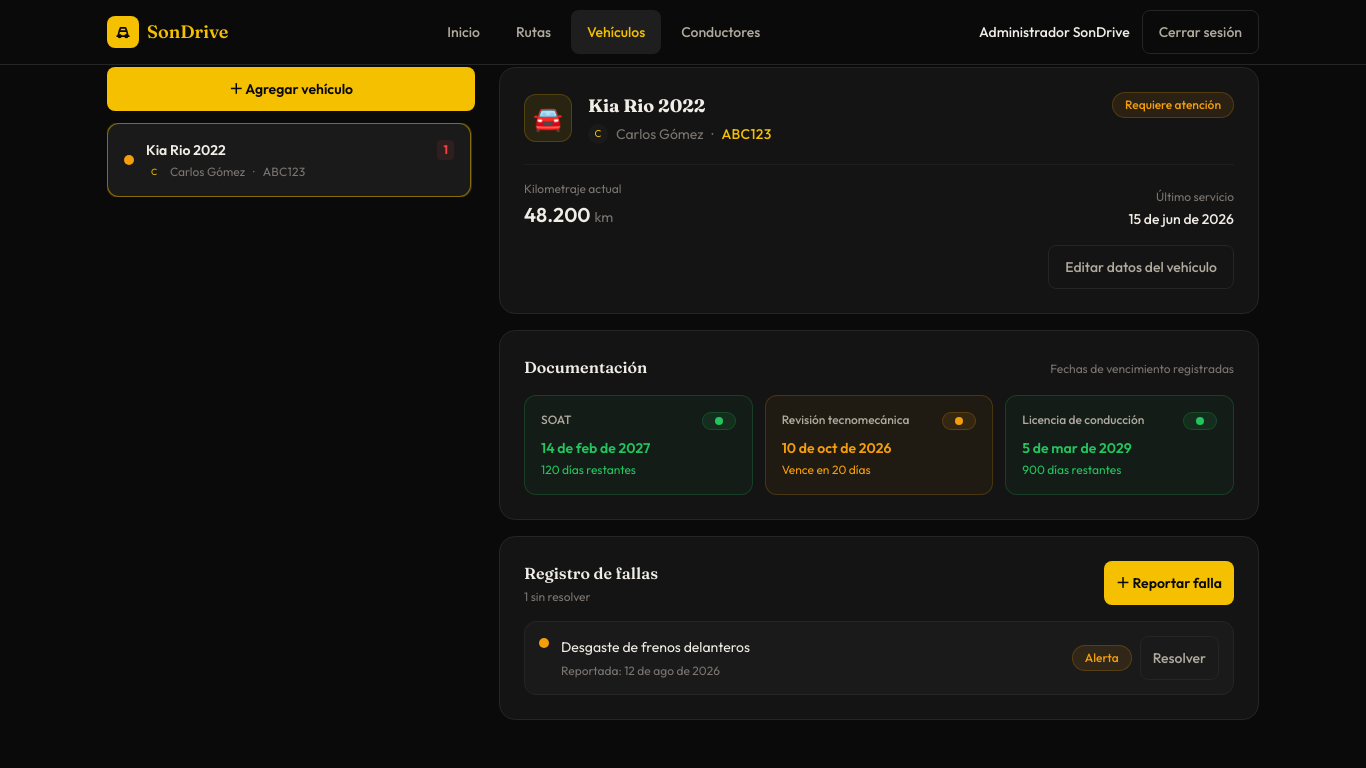
Test: PaginaVehiculos › muestra el monitoreo real de documentos y permite resolver una falla
(page scrolled)
Expected: the text "Kia Rio 2022" is shown, [146,140,226,160]
Expected: the text "Revisión tecnomecánica" is shown, [782,412,909,428]
Click the button "Resolver" at (1179,658), box [1140,636,1219,680]
(page scrolled)
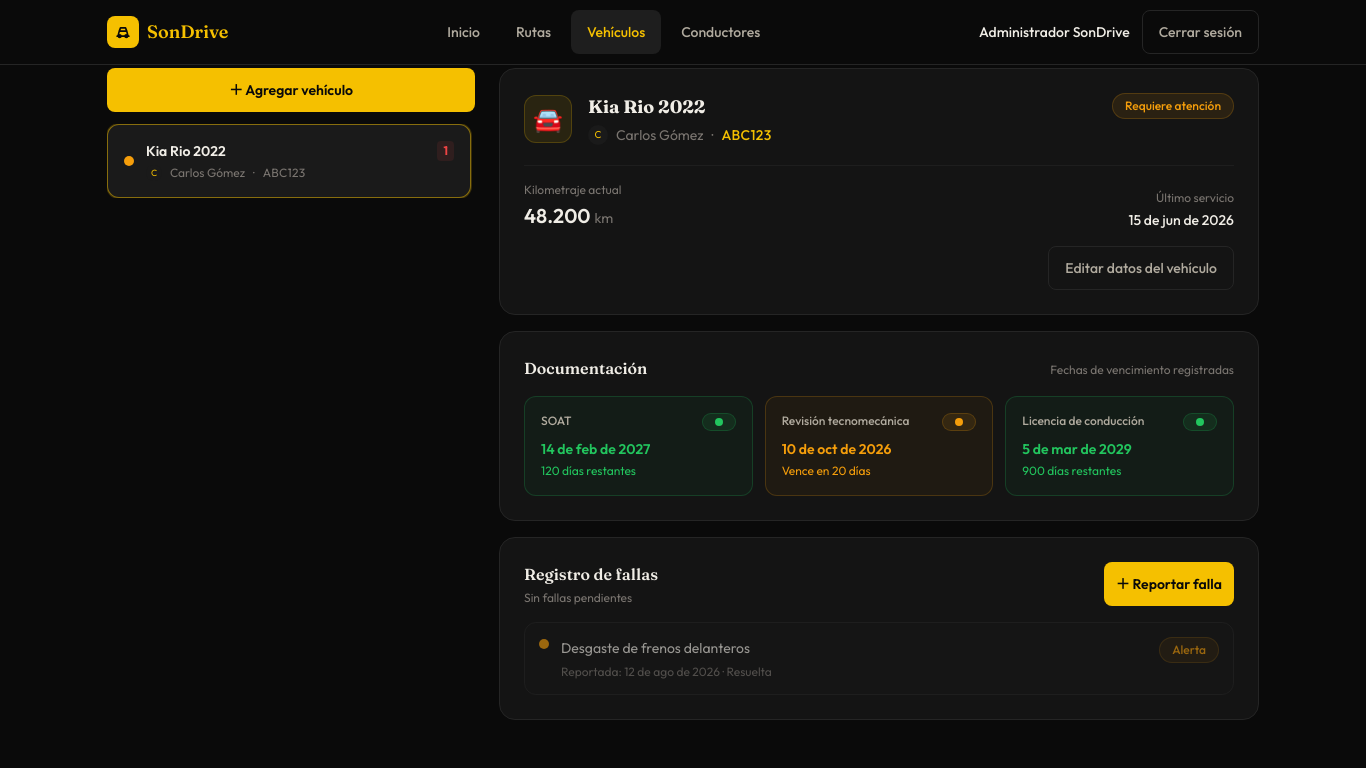
Expected: the button "＋ Agregar vehículo" is shown, [107,68,475,112]
Expected: the text "Reportada: 12 de ago de 2026 · Resuelta" is shown, [561,664,772,680]
